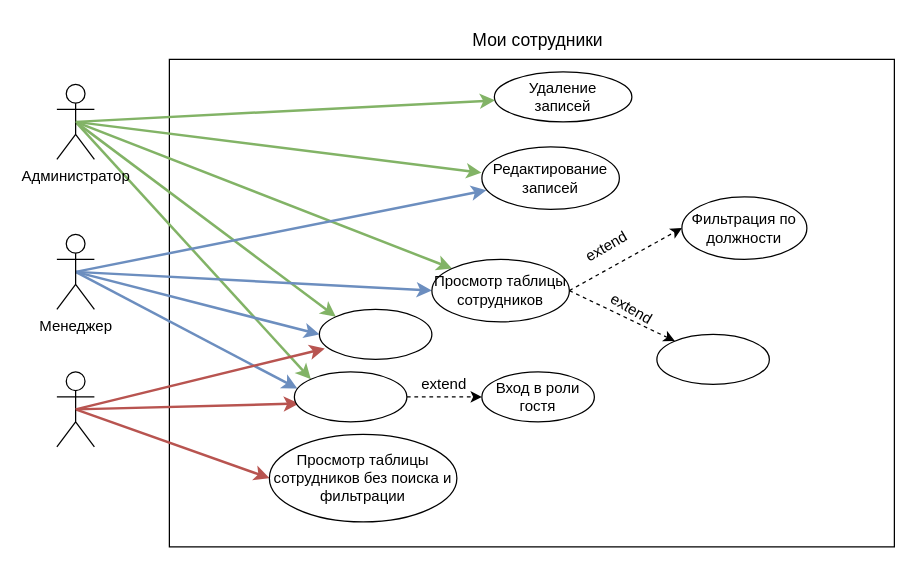
This 916x569 diagram has some shape labels left out. The shapes that lost their labels are listed below. From the top down, each one's centre as x and y in pixels, then its label:
(375,333): Выход из аккаунта
(712,358): Поиск по ФИО
(75,409): Гость
(350,396): Авторизация
